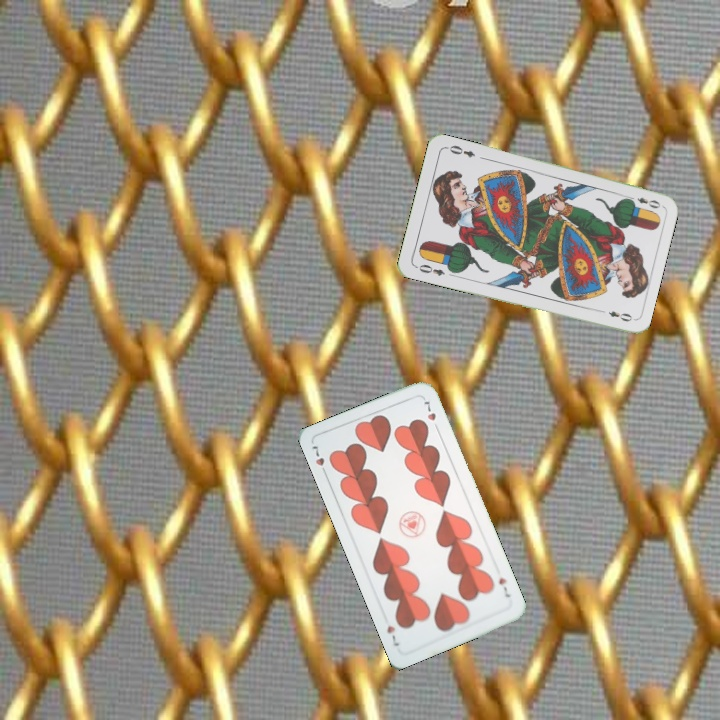EO: (624, 192, 663, 211), (412, 260, 447, 278)
H7: (308, 441, 330, 479), (494, 573, 513, 600)
